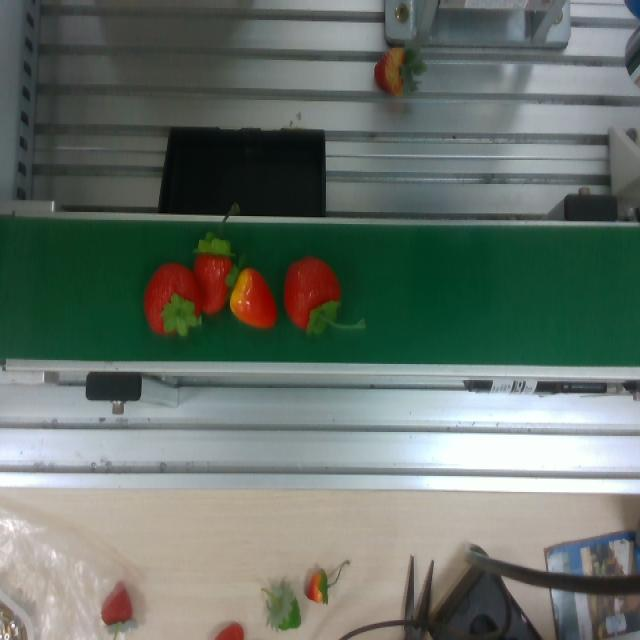Large Ripe Strawberry: (278, 254, 360, 341), (140, 261, 204, 343)
Small Ripe Strawberry: (194, 224, 229, 314)
Small Unripe Strawberry: (230, 249, 275, 338)
conveyor: (3, 206, 640, 370)
